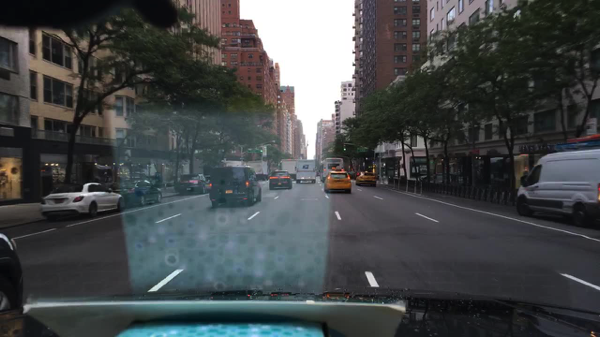bus: (319, 157, 346, 183)
car: (514, 147, 599, 226), (39, 181, 126, 223), (207, 165, 263, 209), (0, 231, 26, 314), (109, 180, 163, 207), (323, 170, 352, 194), (178, 174, 205, 198), (268, 170, 293, 191), (420, 172, 457, 184), (354, 171, 378, 188), (204, 174, 213, 192), (346, 171, 358, 180), (315, 168, 321, 178)
traffic light: (258, 147, 263, 156), (342, 145, 347, 152)
traffic sign: (247, 149, 261, 154), (357, 148, 368, 152), (239, 157, 246, 161)
truck: (295, 159, 316, 185), (248, 160, 271, 181), (280, 158, 298, 181), (220, 160, 247, 168)
